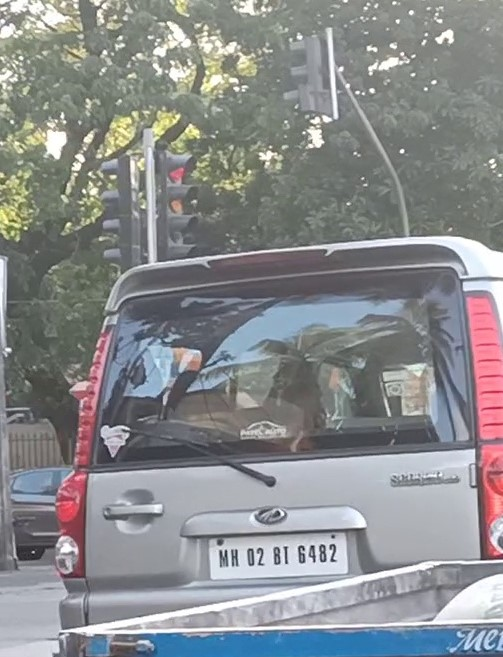MH02BT6482: (208, 531, 347, 575)
